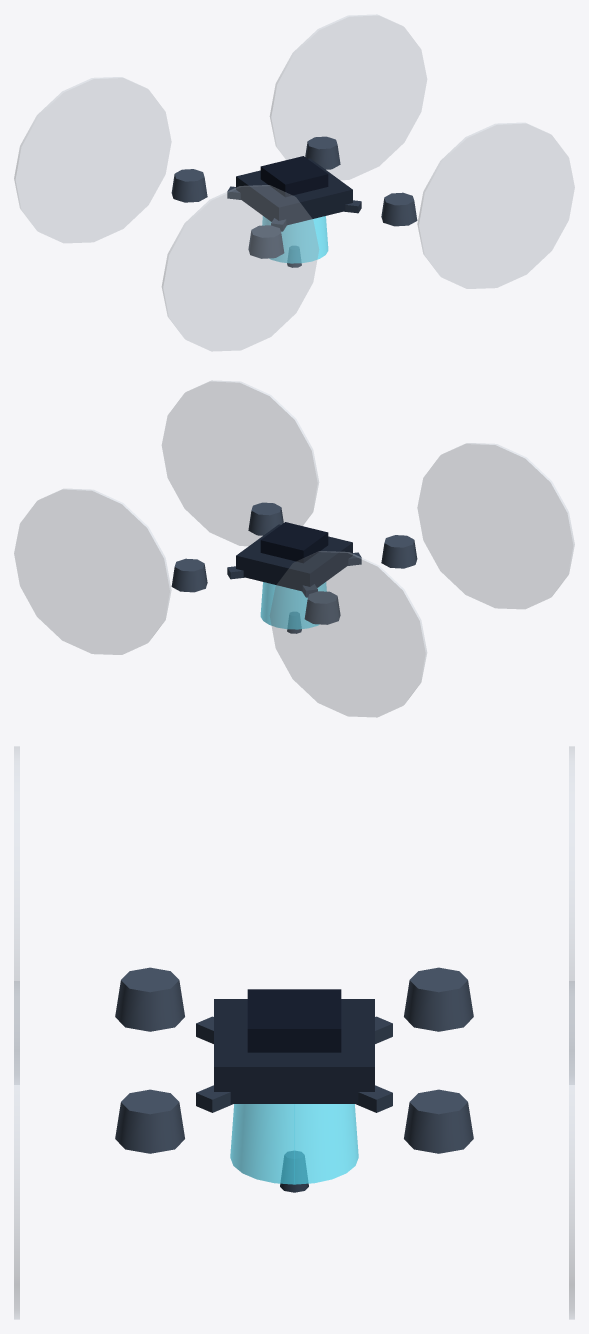
Rendered from drone_quad.glb.
3 renders of one model, top to bottom at view 1: azimuth 30°, elevation 25°; view 2: azimuth 150°, elevation 25°; view 3: azimuth 270°, elevation 25°, orthographic. The views are drawn at different scales.
Visible parts, largest first — view 1: Prop (×4), Body, Dome, PayloadTank, Arm_1, Arm_0, Arm_3, Arm_2; view 2: Prop (×4), Body, Dome, PayloadTank, Arm_0, Arm_1, Arm_3, Arm_2; view 3: Body, PayloadTank, Prop (×4), Dome, Arm_1, Arm_0, Arm_3, Arm_2, Nozzle.
Boxes of the visible parts, x1,y1,x2,y2 form: Prop (×4): (14, 14, 574, 351); Body: (236, 158, 352, 225); Dome: (260, 156, 328, 197); PayloadTank: (262, 216, 328, 263); Arm_1: (227, 186, 361, 258); Arm_0: (271, 192, 417, 231); Arm_3: (171, 169, 207, 202); Arm_2: (228, 136, 359, 204); Prop (×4): (14, 380, 574, 717); Body: (236, 524, 352, 591); Dome: (260, 522, 328, 563); PayloadTank: (260, 582, 326, 629); Arm_0: (227, 502, 361, 579); Arm_1: (302, 535, 417, 597); Arm_3: (228, 553, 360, 624); Arm_2: (171, 558, 313, 592); Body: (214, 999, 374, 1103); PayloadTank: (230, 1104, 358, 1184); Prop (×4): (14, 746, 574, 1319); Dome: (247, 989, 341, 1052); Arm_1: (115, 967, 392, 1112); Arm_0: (115, 1016, 392, 1153); Arm_3: (200, 967, 473, 1097); Arm_2: (199, 1017, 473, 1153); Nozzle: (280, 1151, 308, 1192).
Bounding box in the file's own units: 3.06 × 1.16 × 1.92.
